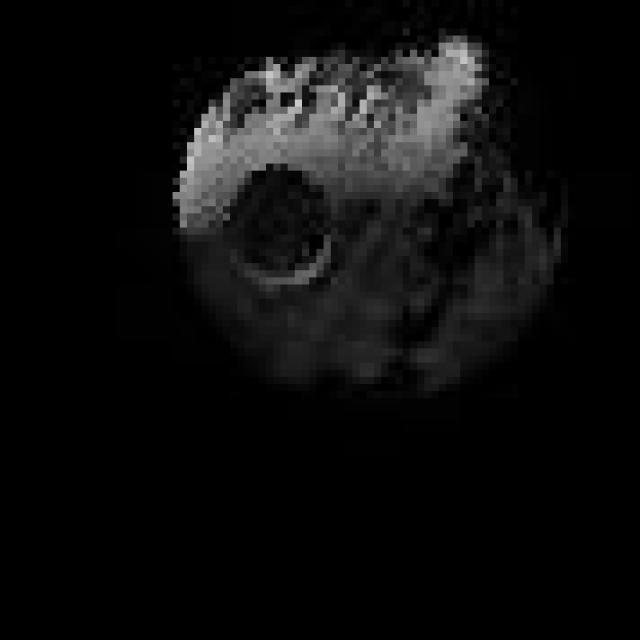Death Star: (158, 14, 568, 406)
